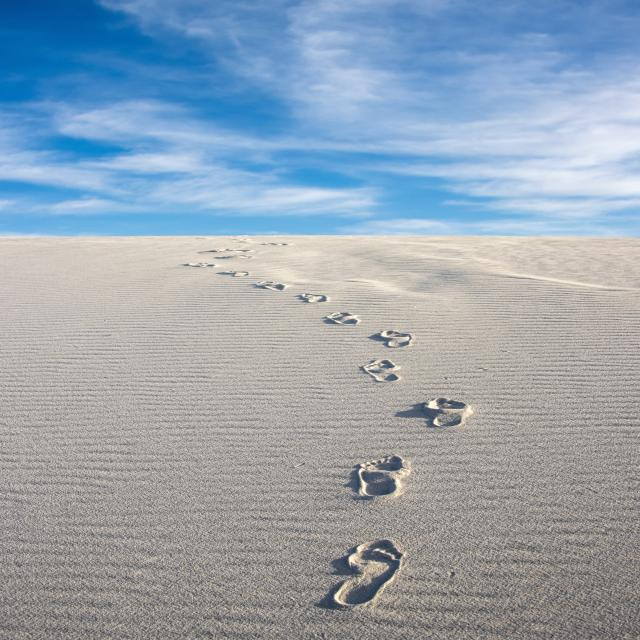human_footprint: (236, 249, 420, 621)
